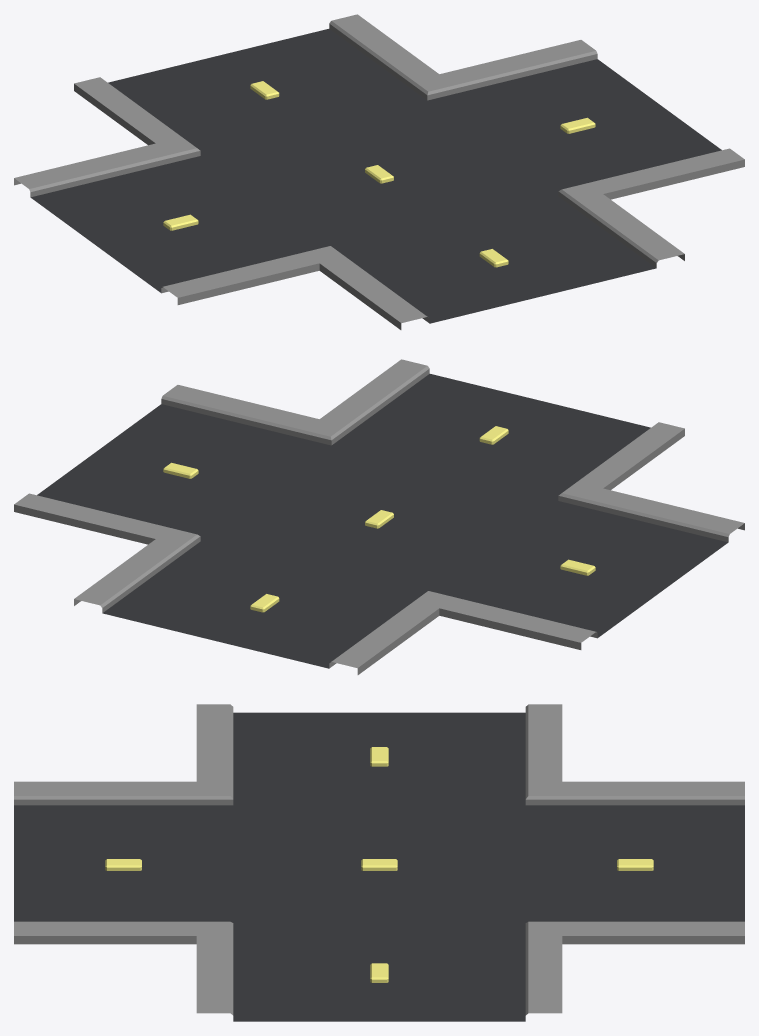
The model's file is 4WayRoad.fbx.
3 views of the same model, one above another, from view 1: azimuth 30°, elevation 25°; view 2: azimuth 150°, elevation 25°; view 3: azimuth 270°, elevation 25° (orthographic). The views are drawn at different scales.
Parts seen in each view (by area): view 1: polySurface33; view 2: polySurface33; view 3: polySurface33.
Boxes of the visible parts, x1,y1,x2,y2 form: polySurface33: (14,14,744,329); polySurface33: (14,359,744,674); polySurface33: (14,704,744,1021).
Size of the model in its own units: 20 by 0.4 by 20.
